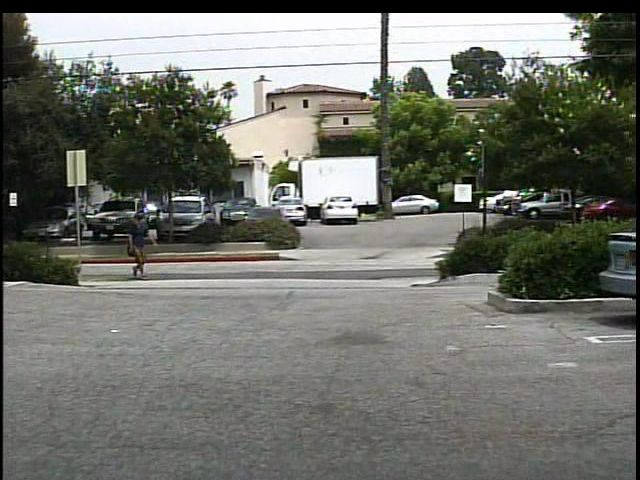person: (123, 209, 156, 281)
